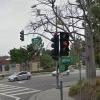Traffic light: (14, 29, 74, 60)
